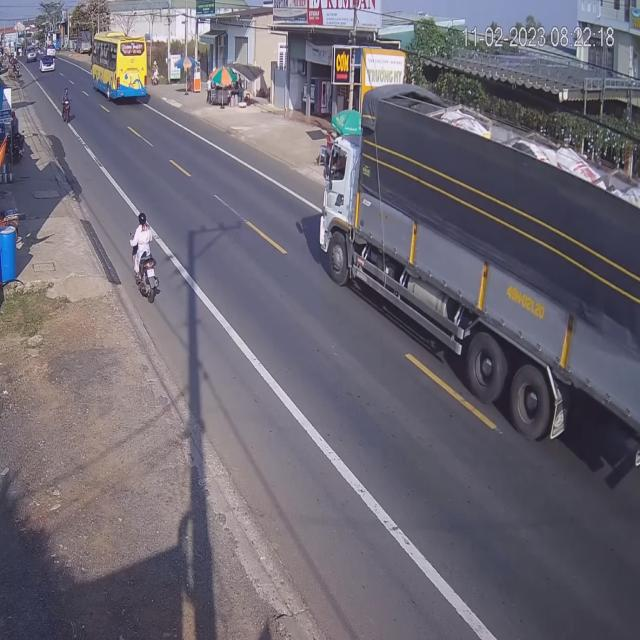bus: (92, 33, 150, 109)
car: (40, 50, 56, 75)
motorbike: (131, 213, 162, 303), (61, 90, 72, 124)
truck: (320, 80, 640, 452)
